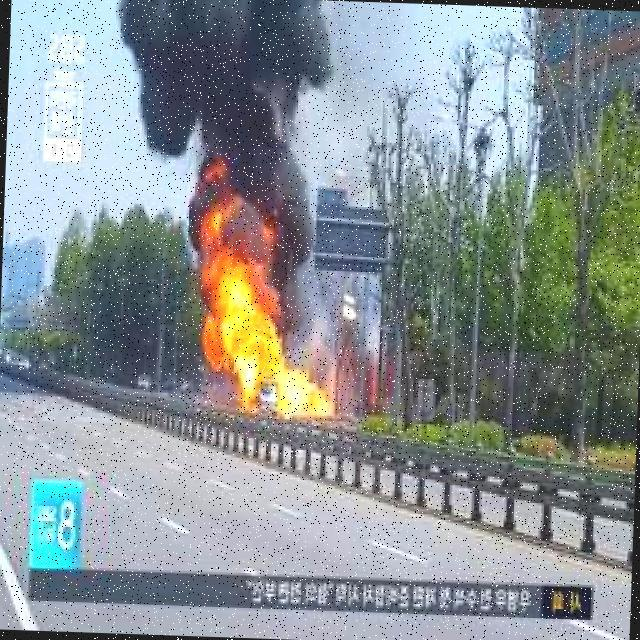Fire: (200, 270, 274, 378), (274, 376, 331, 412), (235, 384, 264, 406)
